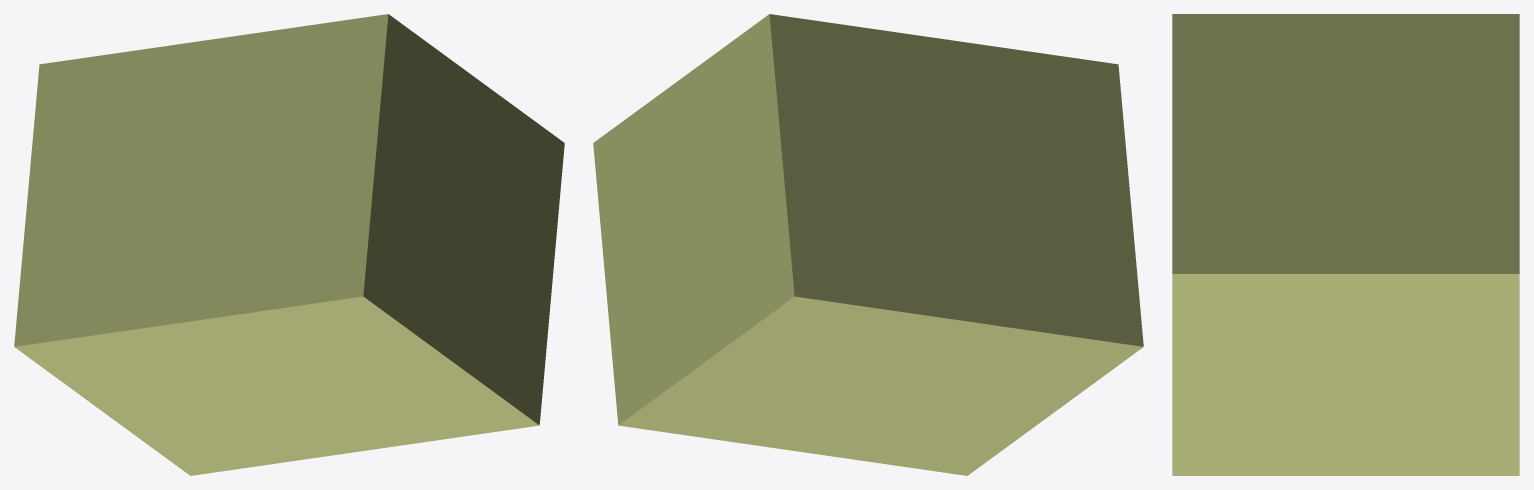
The picture shows the model from 3 angles, left to right: view 1: azimuth 30°, elevation 25°; view 2: azimuth 150°, elevation 25°; view 3: azimuth 270°, elevation 25°; orthographic projection.
Visible parts, largest first — view 1: 0_2_1_3_0_3_1_0_0_2_0; view 2: 0_2_1_3_0_3_1_0_0_2_0; view 3: 0_2_1_3_0_3_1_0_0_2_0.
Boxes of the visible parts, bbox=[...] form: 0_2_1_3_0_3_1_0_0_2_0: bbox=[14, 14, 564, 475]; 0_2_1_3_0_3_1_0_0_2_0: bbox=[593, 14, 1143, 475]; 0_2_1_3_0_3_1_0_0_2_0: bbox=[1172, 14, 1519, 475].
Size of the model in its own units: 7.35 by 5.84 by 6.
